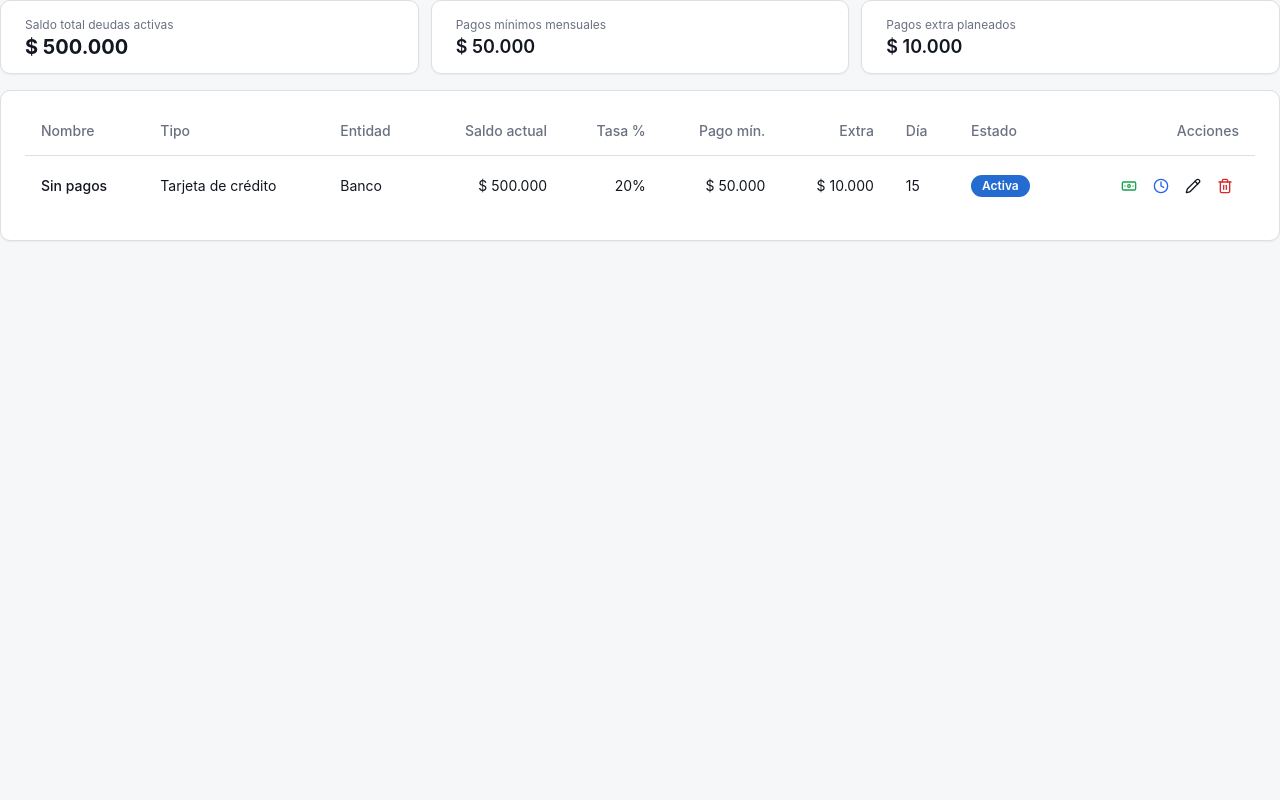
Test: DeudasTable › shows an empty history state when the selected deuda has no pagos
The image size is (1280, 800).
Click the button titled "Ver historial": (1161, 186) 1147,172 -> 1175,200
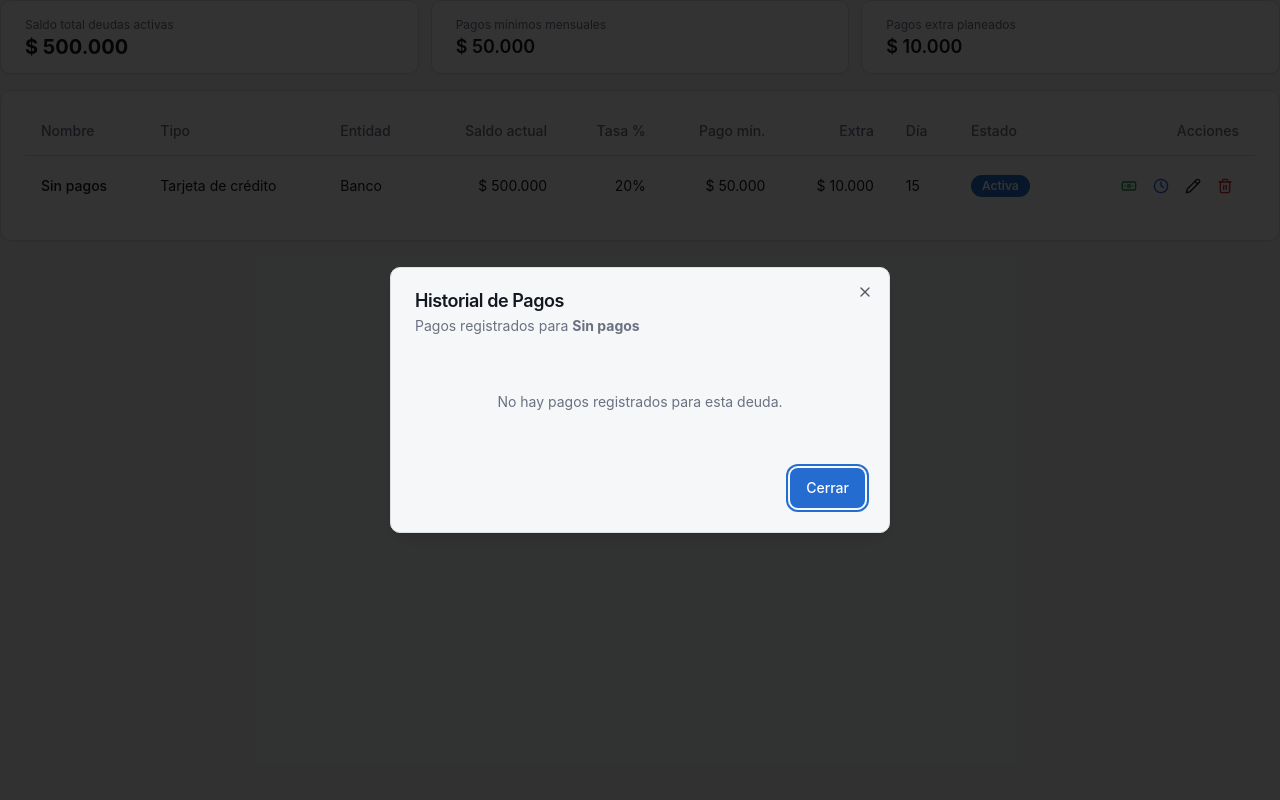
Now the text "No hay pagos registrados para esta deuda." is shown, box 497,393 -> 783,410
